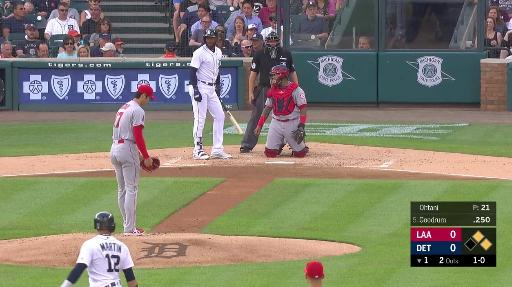pitcher: (110, 83, 159, 236)
